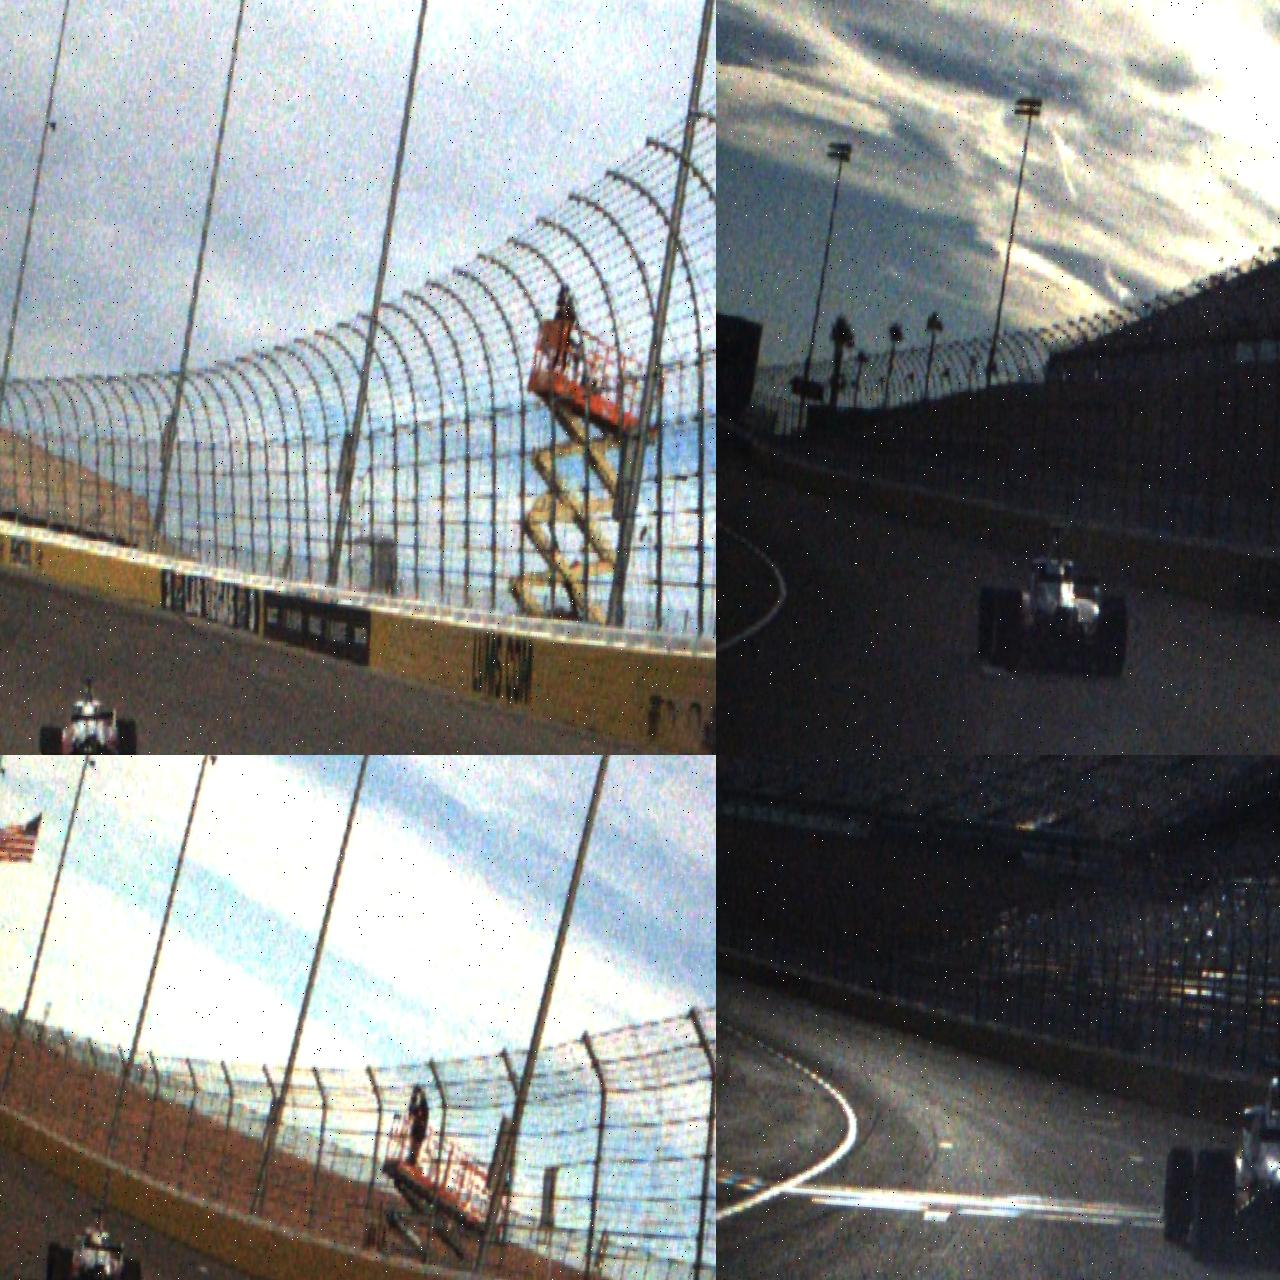AV: (1159, 1051, 1280, 1278), (973, 516, 1136, 682), (36, 673, 141, 755), (42, 1203, 147, 1280)
Wheel: (1189, 1148, 1238, 1268), (1160, 1148, 1196, 1246), (1097, 595, 1130, 681), (988, 590, 1022, 668), (974, 586, 1000, 660), (116, 717, 138, 755), (45, 1241, 62, 1280), (52, 1248, 73, 1280), (120, 1258, 143, 1280), (42, 734, 62, 755)
